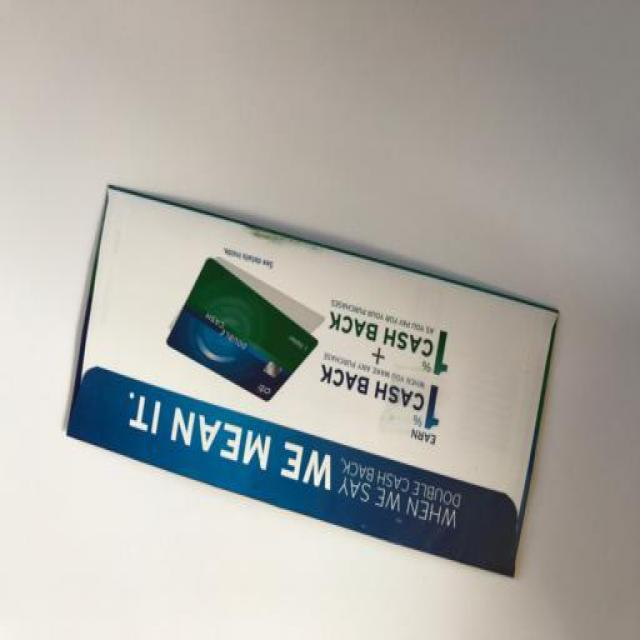paper: (60, 181, 556, 604)
